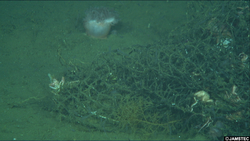fishing net: (32, 1, 250, 132)
